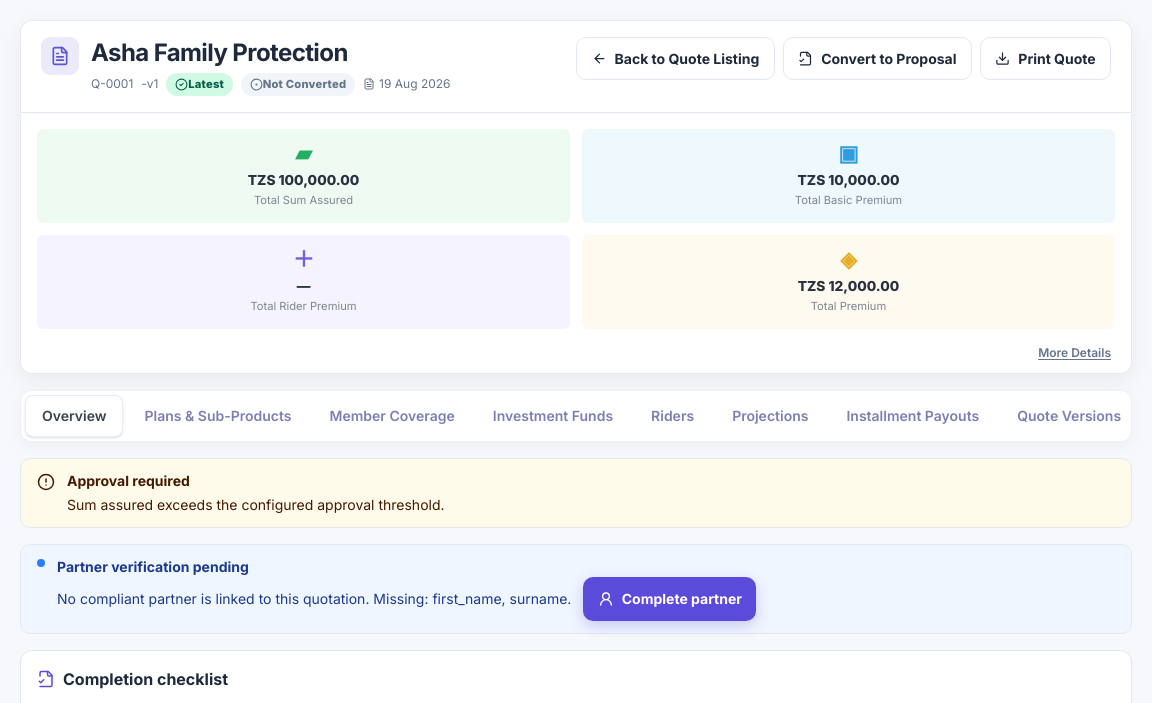
OL quotation detail lifecycle › blocks conversion and lists eligibility errors when partner verification is incomplete
Expected: the text "Q-0001" is shown, [91,76,133,92]
Click the button "Convert to Proposal" at (877, 58), box [783,37,972,80]
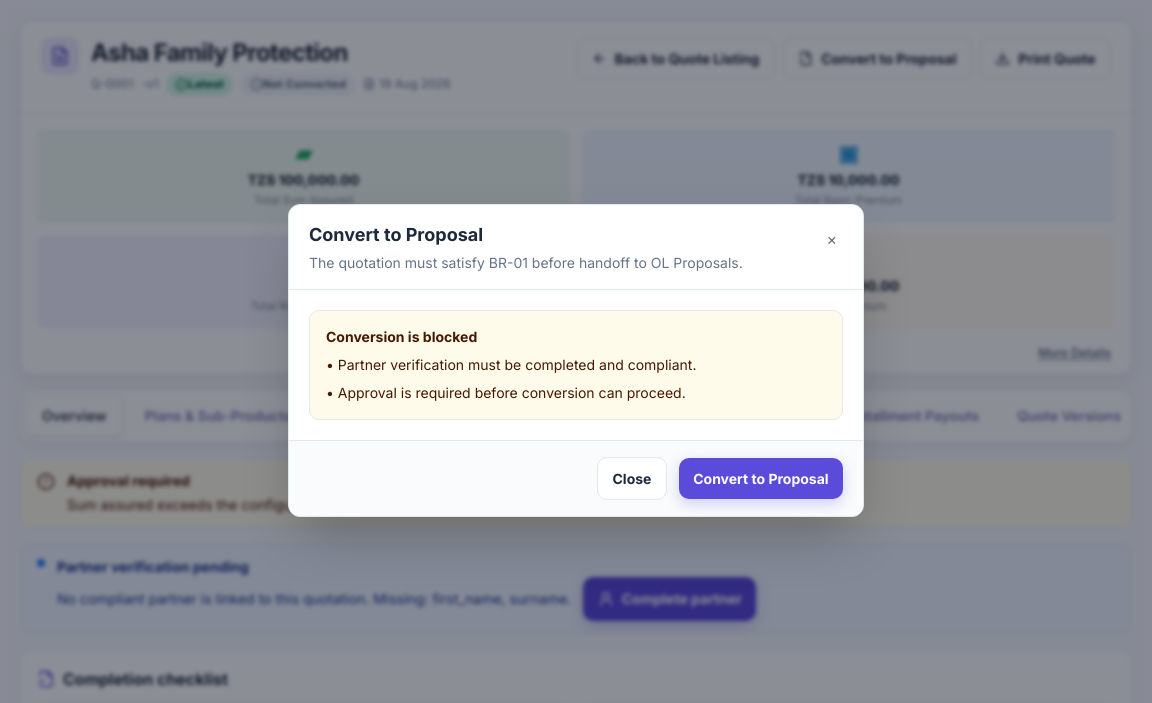
Result: the text "Conversion is blocked" is shown at [326,328,477,344]
Result: the text "• Partner verification must be completed and compliant." is shown at [326,356,696,372]
